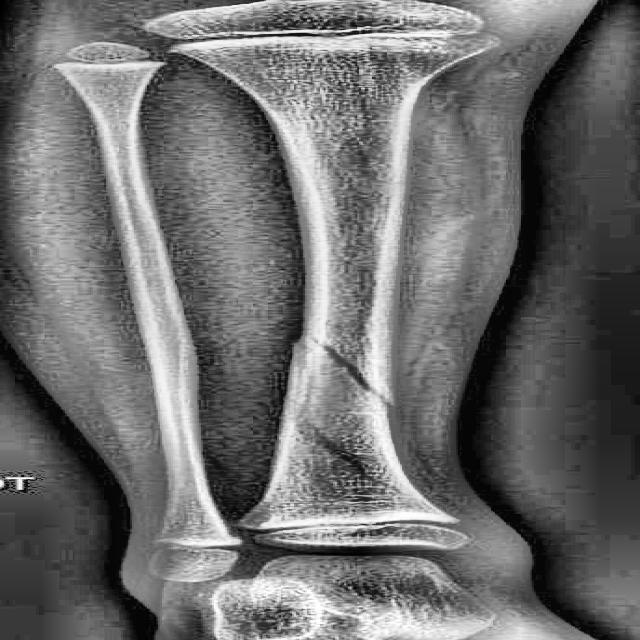line: (290, 426, 408, 495), (286, 336, 396, 408)
